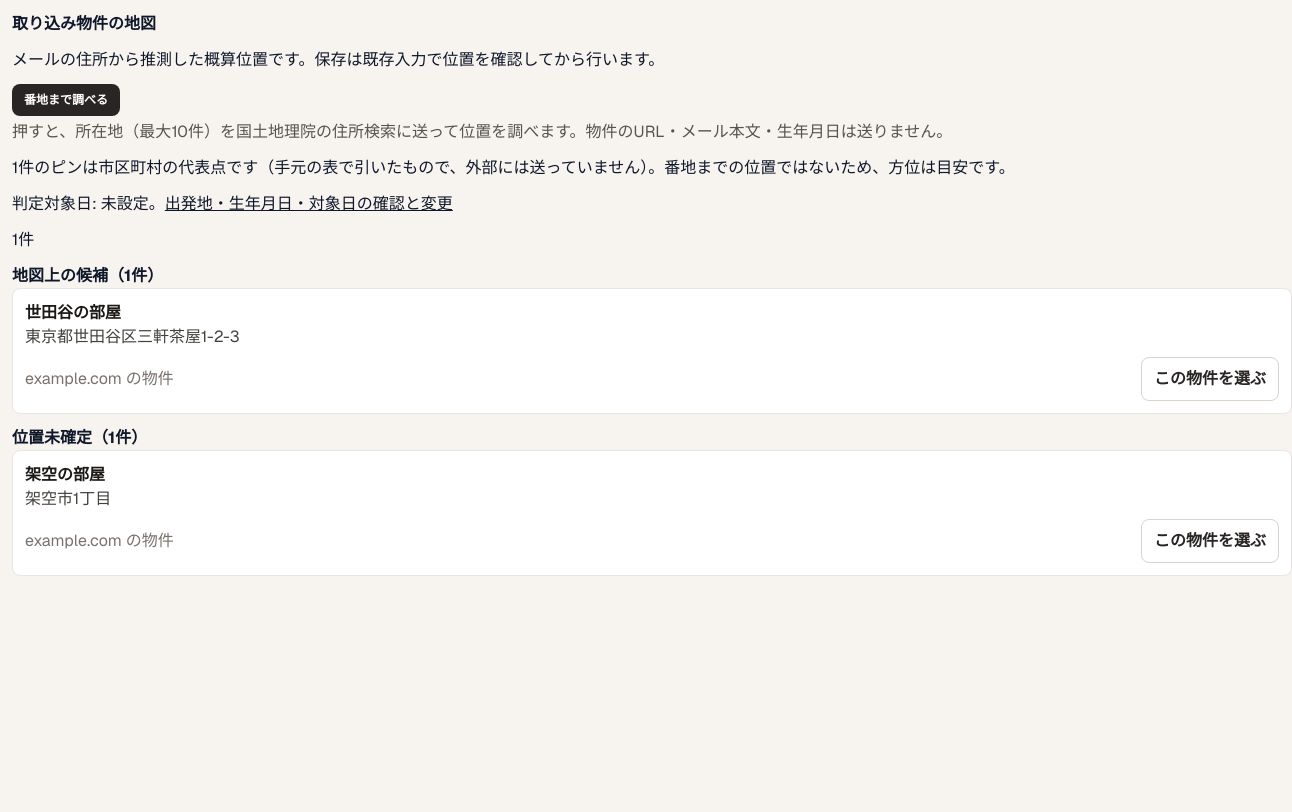
Test: 取り込み物件の地図 › 番地まで引けたものは番地の位置が勝つ
Click the button "番地まで調べる". click: [66, 100]
box: [12,84,120,116]
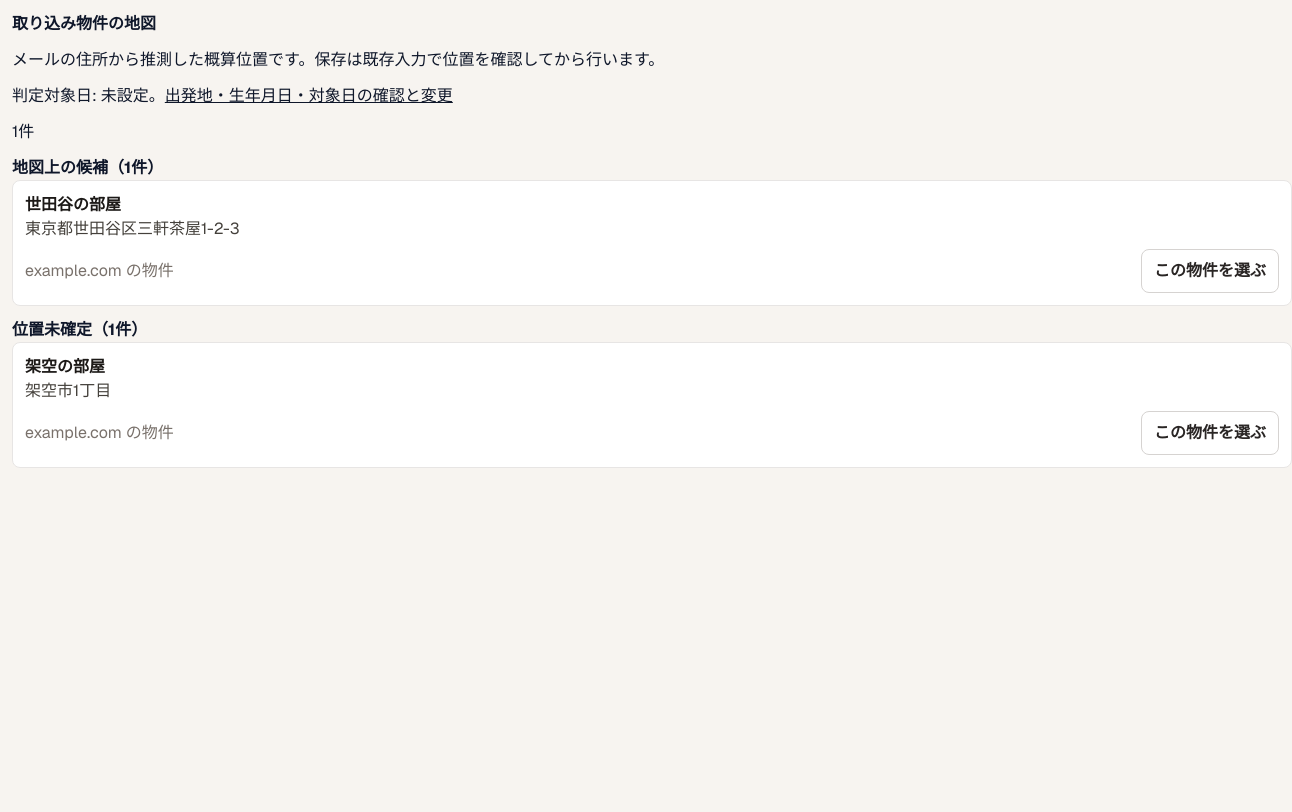
Check: the text "件のピンは市区町村の代表点です" is gone
